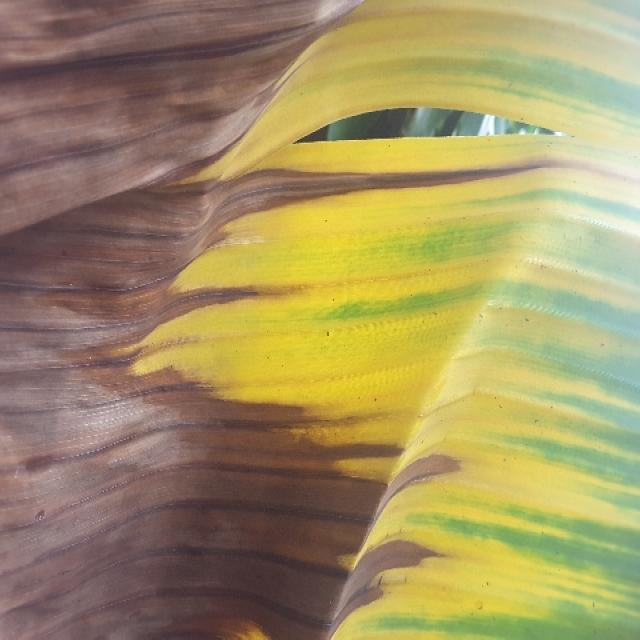Cordana: (139, 0, 640, 640)
